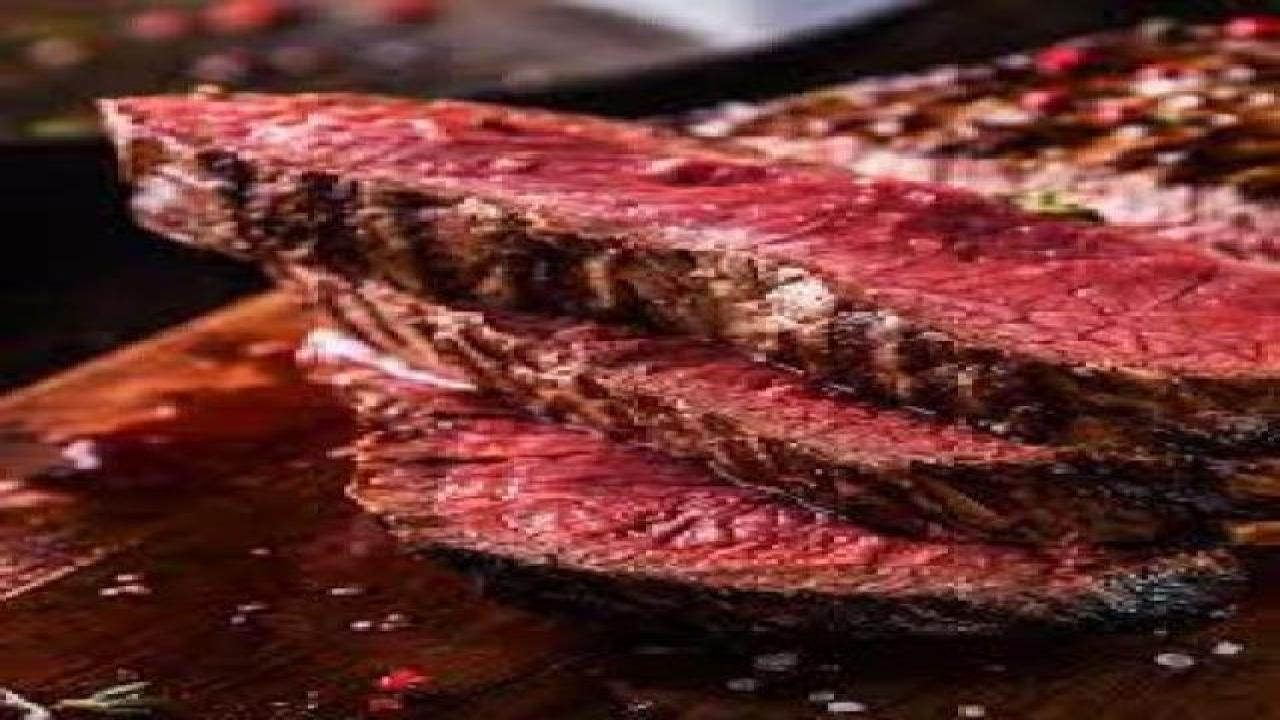Carne: (80, 50, 1273, 396), (260, 255, 1232, 504), (303, 402, 1280, 636)
